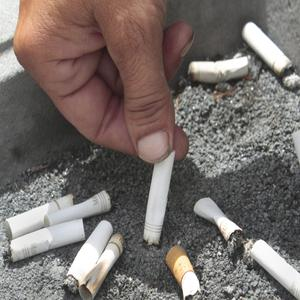cigarette: (139, 141, 177, 249), (192, 196, 248, 246)
